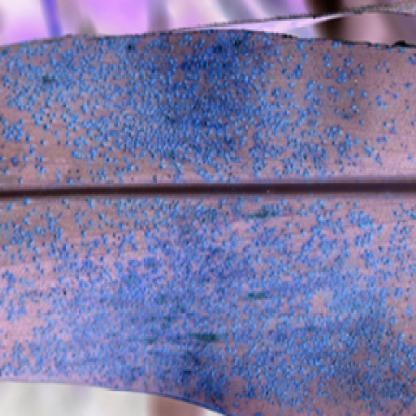Corn rust leaf: (1, 3, 413, 414)
